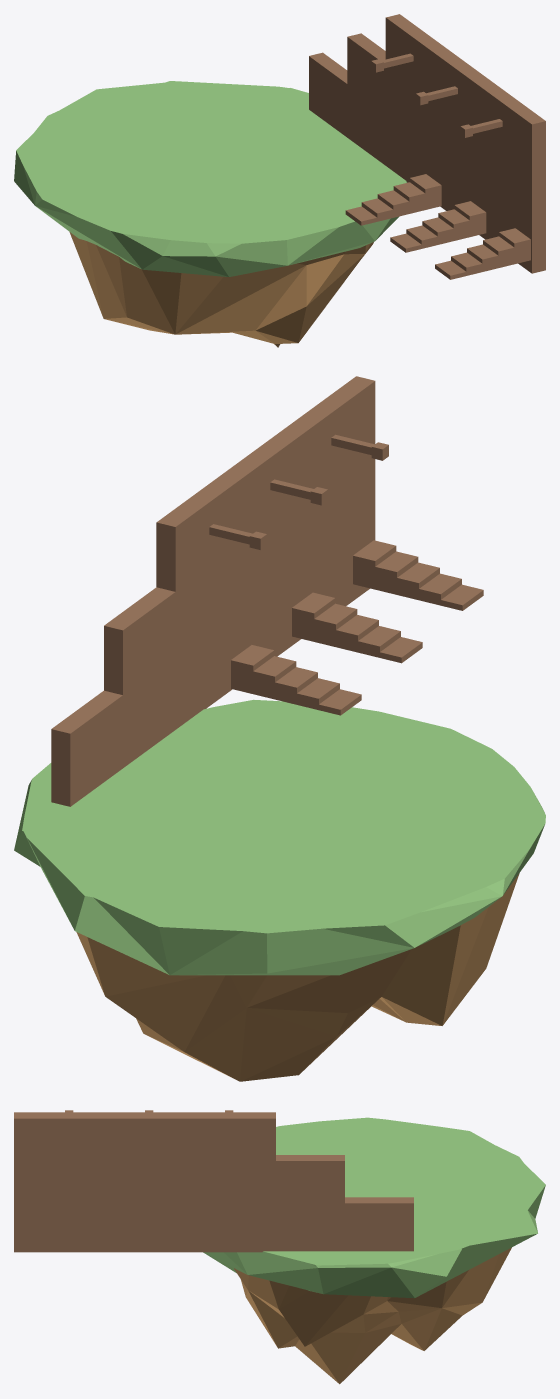
Rendered from trick4_fixed.fbx.
3 renders of one model, top to bottom at view 1: azimuth 30°, elevation 25°; view 2: azimuth 150°, elevation 25°; view 3: azimuth 270°, elevation 25°, orthographic. The views are drawn at different scales.
Parts seen in each view (by area): view 1: island7, wall, stairs1, stairs2, stairs3, support_3, support_1, support_2; view 2: island7, wall, stairs3, stairs1, stairs2; view 3: wall, island7.
Part boxes in pixels (x1,y1,x2,y2): island7: [14, 81, 406, 347]; wall: [309, 14, 545, 273]; stairs1: [345, 174, 441, 225]; stairs2: [390, 201, 486, 252]; stairs3: [435, 228, 530, 279]; support_3: [460, 119, 502, 137]; support_1: [371, 53, 413, 72]; support_2: [416, 86, 457, 105]; island7: [14, 699, 545, 1081]; wall: [51, 376, 375, 806]; stairs3: [353, 540, 483, 610]; stairs1: [231, 645, 361, 715]; stairs2: [292, 592, 422, 663]; wall: [14, 1112, 413, 1252]; island7: [203, 1117, 545, 1384].
Size of the model in its own units: 2567 by 2430 by 3859.
